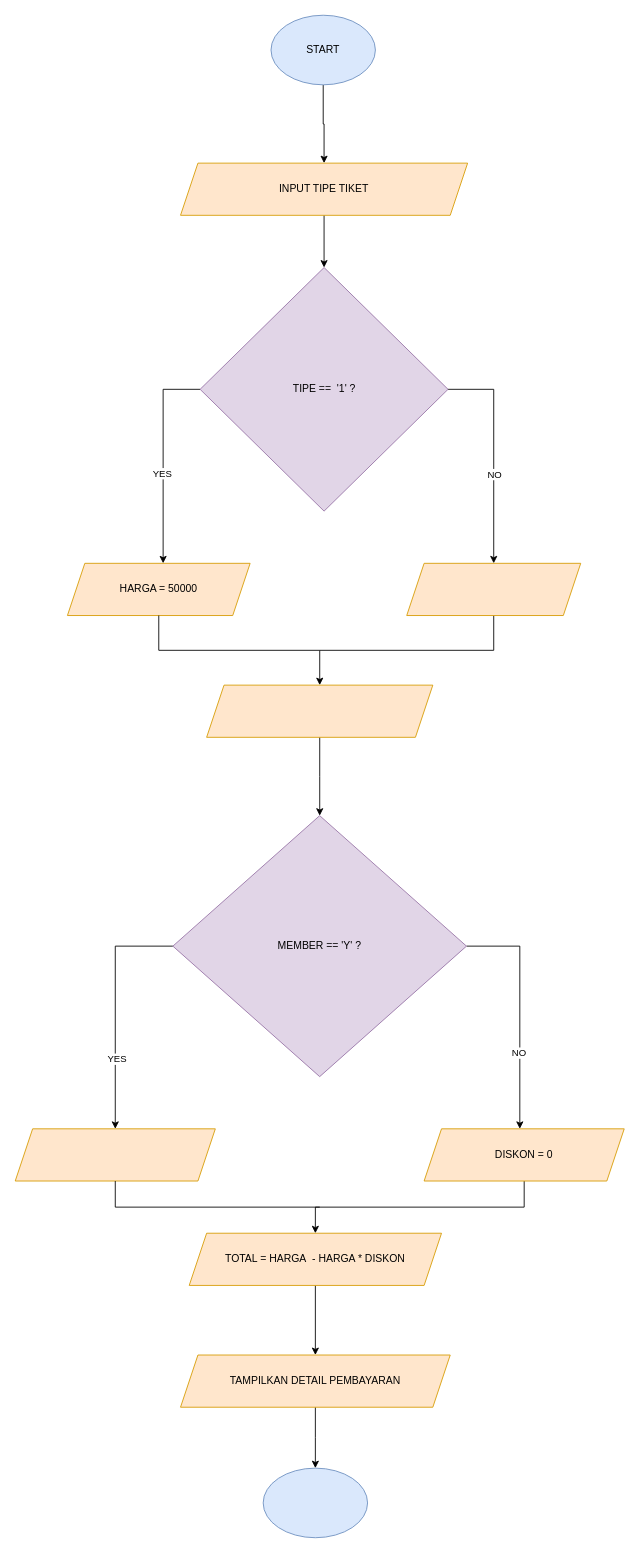
The diagram is 639 pixels wide and 1553 high, and some of its shapes have lost their labels. Here are the shapes that lost their labels. From the top down, the centre of each, then its label:
At [493,589]: "HARGA = 100000".
At [319,710]: "INPUT STATUS MEMBER Y/N".
At [114,1154]: "DISKON = 0.2".
At [315,1502]: "END".
